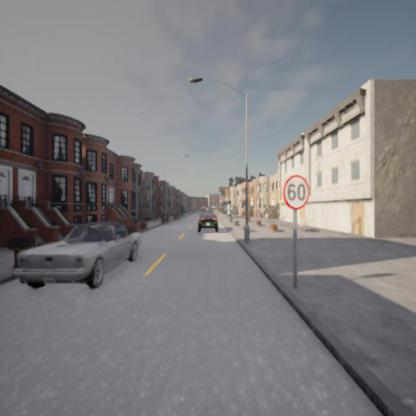traffic_sign_60: (282, 173, 311, 211)
vehicle: (13, 223, 142, 288), (197, 211, 218, 232)
